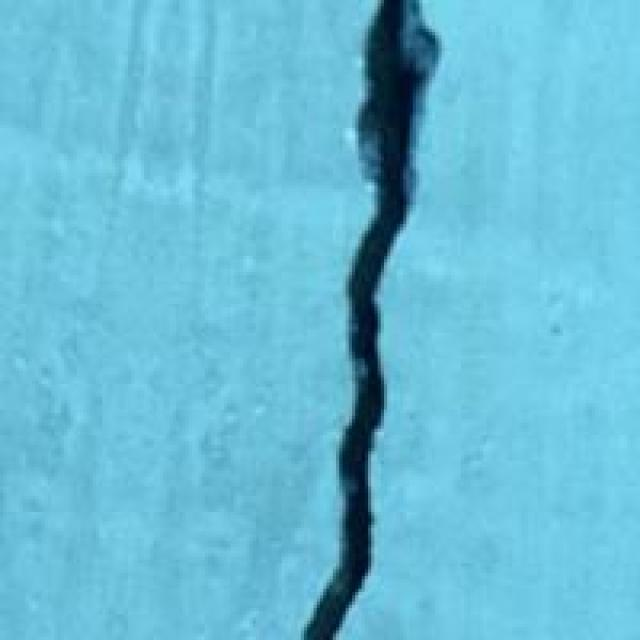Crack: (195, 0, 490, 637)
